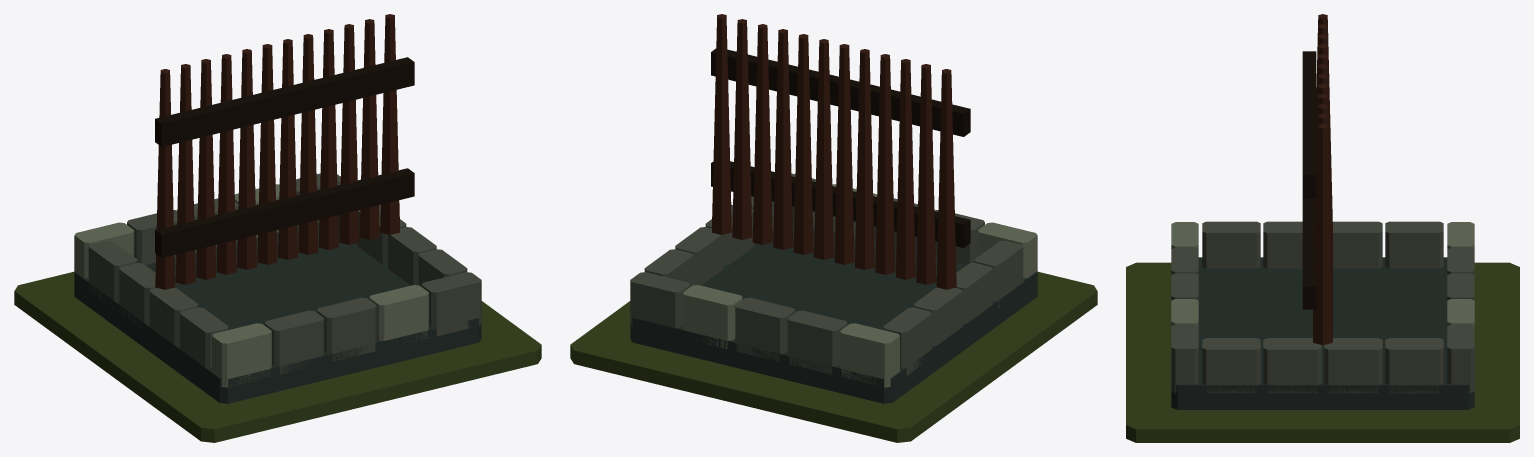
File: wall_t2.glb
3 views of the same model, side by side, from view 1: azimuth 30°, elevation 25°; view 2: azimuth 150°, elevation 25°; view 3: azimuth 270°, elevation 25° (orthographic).
Parts seen in each view (by area): view 1: MMR | wall | T02 Architecture.001, MMR | wall | Tier 02 Ground.001; view 2: MMR | wall | T02 Architecture.001, MMR | wall | Tier 02 Ground.001; view 3: MMR | wall | T02 Architecture.001, MMR | wall | Tier 02 Ground.001.
Part boxes in pixels (box(x1,y1,x2,y2)): MMR | wall | T02 Architecture.001: box(74, 14, 481, 403); MMR | wall | Tier 02 Ground.001: box(14, 271, 541, 442); MMR | wall | T02 Architecture.001: box(630, 14, 1037, 403); MMR | wall | Tier 02 Ground.001: box(570, 271, 1097, 442); MMR | wall | T02 Architecture.001: box(1171, 14, 1474, 409); MMR | wall | Tier 02 Ground.001: box(1126, 262, 1519, 442).
Bounding box in the file's own units: 1.3 × 1.05 × 1.3.
1 material, 1 textured.
